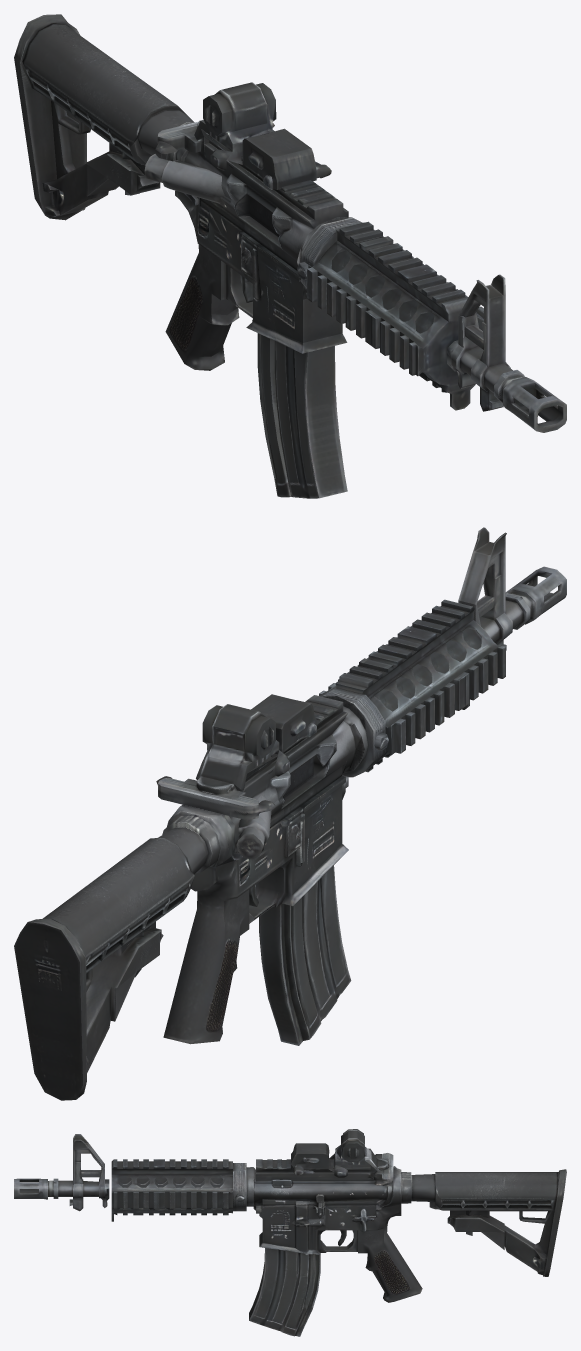
File: base_basic_pbr.glb
3 renders of one model, top to bottom at view 1: azimuth 30°, elevation 25°; view 2: azimuth 150°, elevation 25°; view 3: azimuth 270°, elevation 25°, orthographic. The views are drawn at different scales.
Parts seen in each view (by area): view 1: model; view 2: model; view 3: model.
Boxes of the visible parts, box(x1,y1,x2,y2) form: model: box(14, 14, 566, 498); model: box(14, 527, 566, 1100); model: box(14, 1129, 566, 1336).
Bounding box in the file's own units: 0.2845 × 0.85 × 2.12.
1 material, 1 textured.
